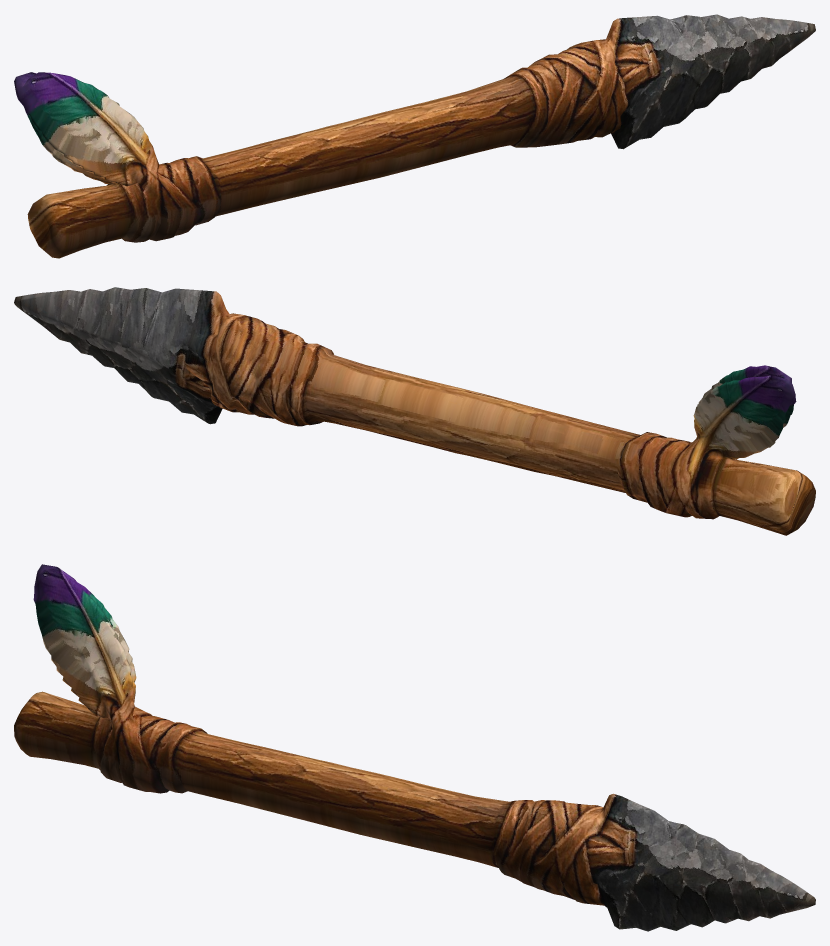
File: spear.glb
The picture shows the model from 3 angles, top to bottom: view 1: azimuth 30°, elevation 25°; view 2: azimuth 150°, elevation 25°; view 3: azimuth 330°, elevation 25°; orthographic projection.
Parts seen in each view (by area): view 1: geometry_0; view 2: geometry_0; view 3: geometry_0.
Boxes of the visible parts, x1,y1,x2,y2 form: geometry_0: (14,14,815,258); geometry_0: (14,287,815,535); geometry_0: (14,564,815,931).
Size of the model in its own units: 2.2 by 0.5514 by 0.1984.
1 material, 1 textured.
